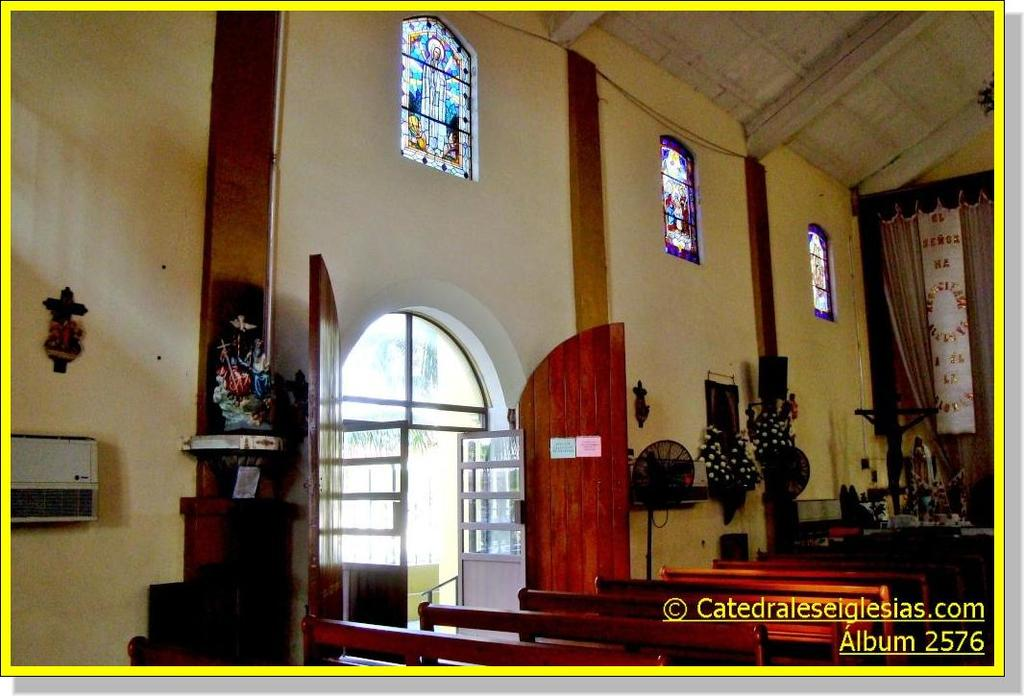Door: (529, 293, 630, 598), (305, 250, 350, 666), (345, 417, 408, 666), (456, 432, 524, 642)
